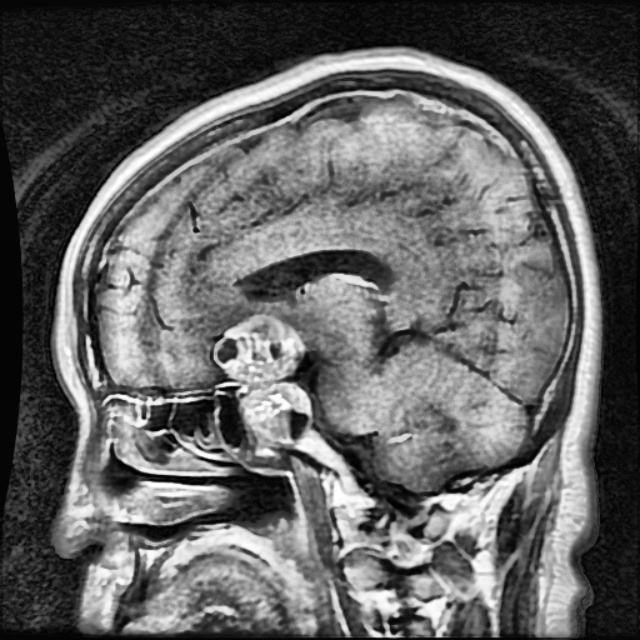Pituitary: (223, 313, 312, 445)
